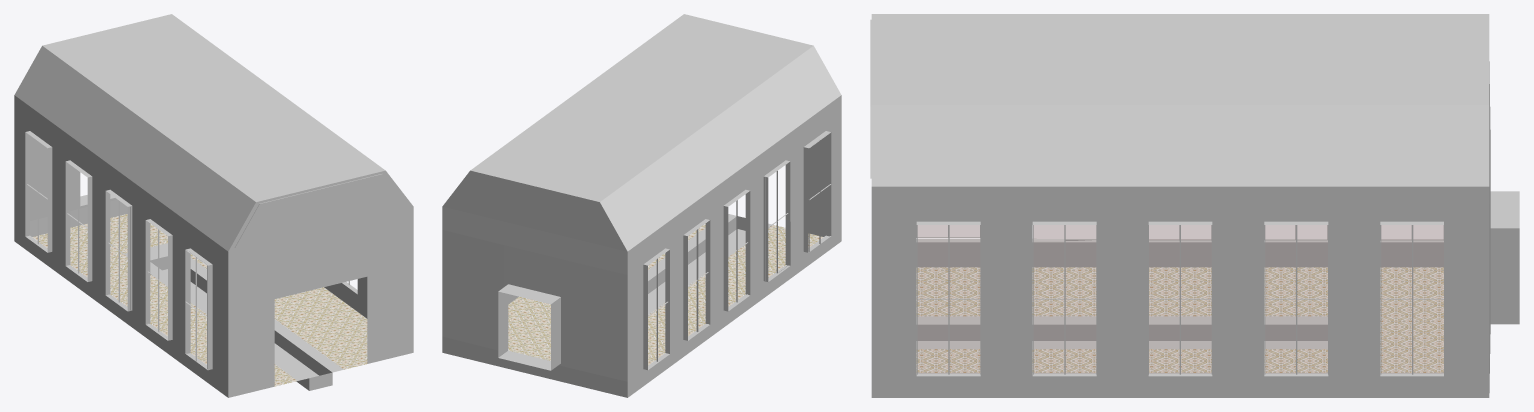
File: station.glb
The picture shows the model from 3 angles, left to right: view 1: azimuth 30°, elevation 25°; view 2: azimuth 150°, elevation 25°; view 3: azimuth 270°, elevation 25°; orthographic projection. The views are drawn at different scales.
Parts seen in each view (by area): view 1: Station; view 2: Station; view 3: Station.
Boxes of the visible parts, x1,y1,x2,y2 form: Station: [14, 14, 413, 397]; Station: [442, 14, 841, 397]; Station: [870, 14, 1519, 397].
Bounding box in the file's own units: 21.11 × 20.83 × 42.02.
Materials: 3 (1 with a texture image).
